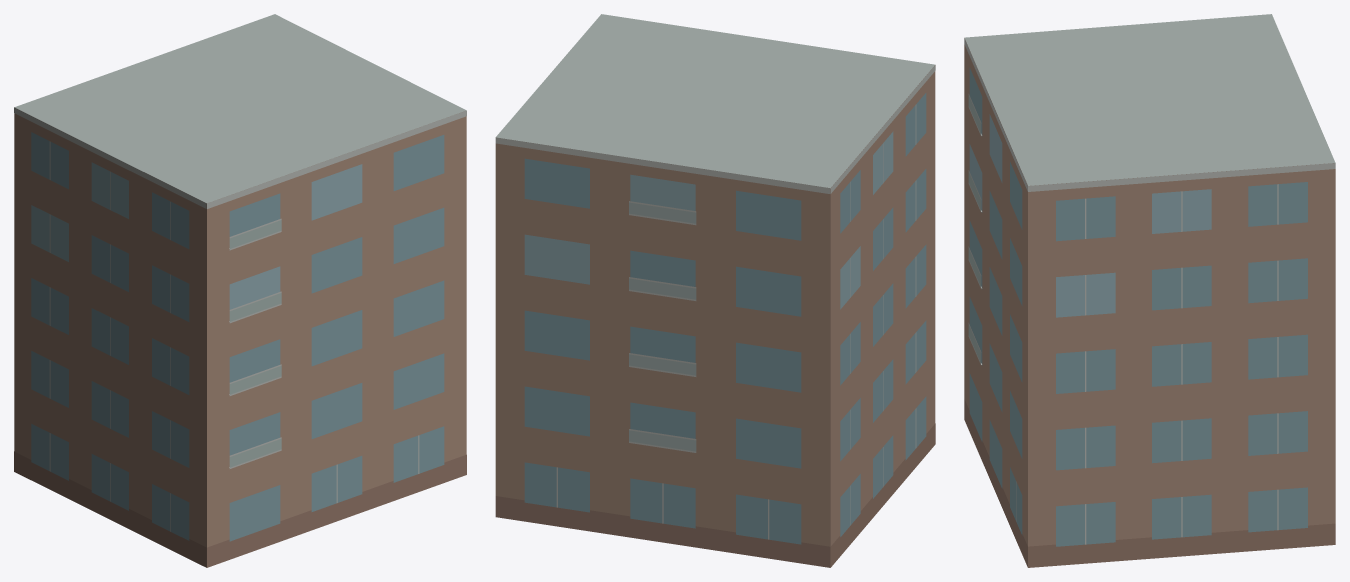
Rendered from survey-upis-32993881.glb.
3 renders of one model, left to right at view 1: azimuth 30°, elevation 25°; view 2: azimuth 150°, elevation 25°; view 3: azimuth 270°, elevation 25°, orthographic. The views are drawn at different scales.
Visible parts, largest first — view 1: survey-upis-32993881.tmp; view 2: survey-upis-32993881.tmp; view 3: survey-upis-32993881.tmp.
Part boxes in pixels (x1,y1,x2,y2): survey-upis-32993881.tmp: (14, 14, 466, 567); survey-upis-32993881.tmp: (495, 14, 935, 567); survey-upis-32993881.tmp: (964, 14, 1335, 567).
Bounding box in the file's own units: 14.78 × 15.3 × 13.49.
